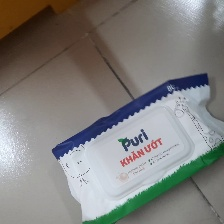Puri Trang: (49, 72, 224, 224)
